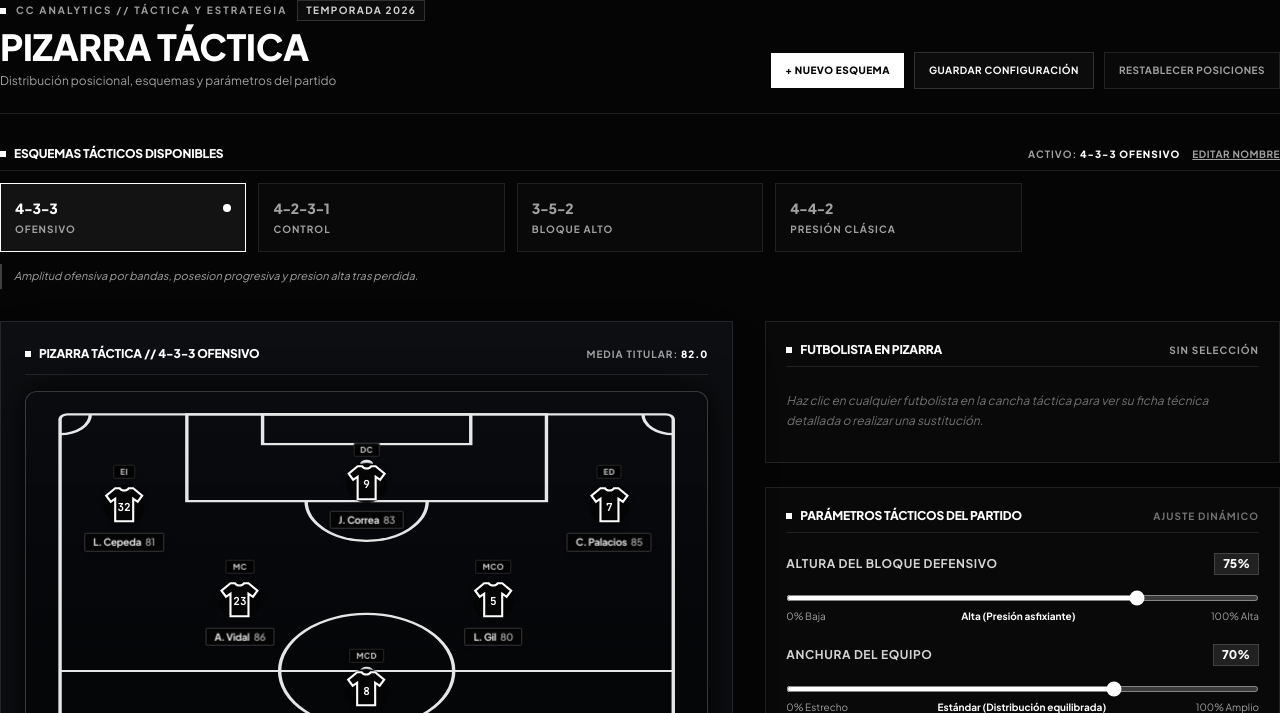
Test case: Módulo de Pizarra Táctica y Formaciones (Pantalla 5) › permite guardar la configuracion tactica y muestra feedback exitoso
The image size is (1280, 713).
Click the button "Guardar Configuración": (1004, 70) left=914, top=52, right=1094, bottom=89
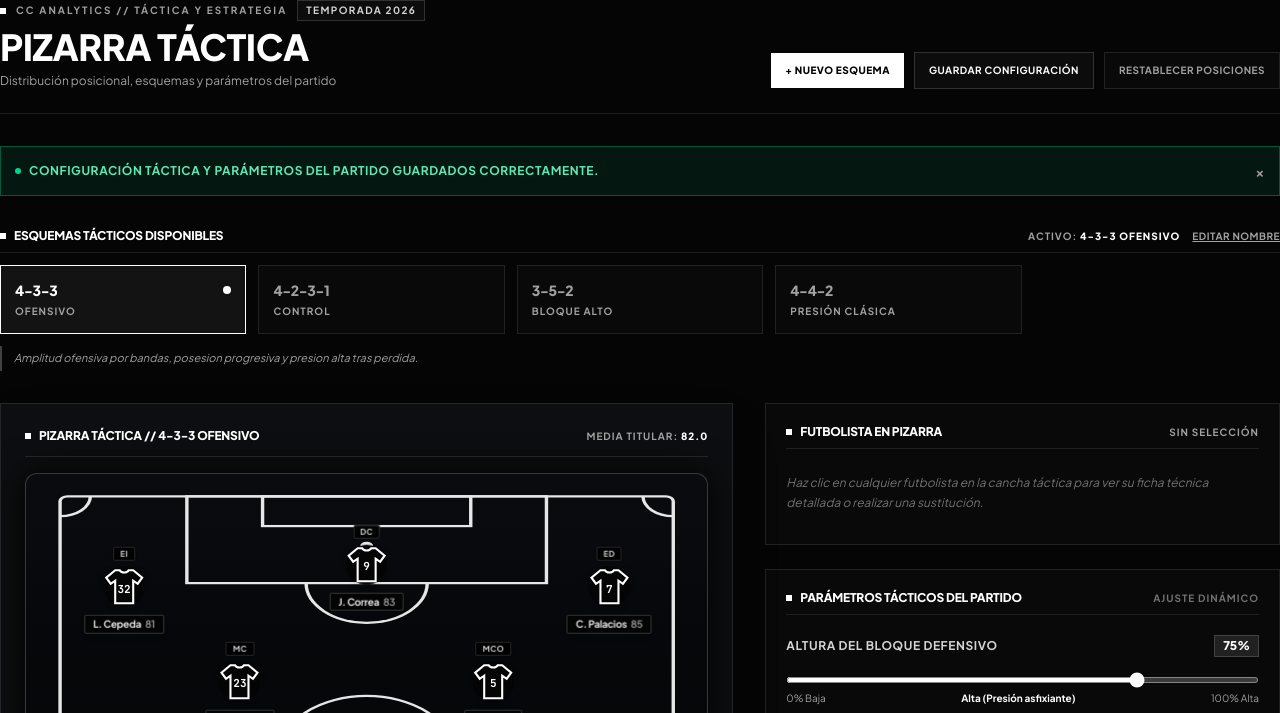
Expected: the text "Configuración táctica y parámetros del partido guardados correctamente" is shown, left=29, top=163, right=599, bottom=178
